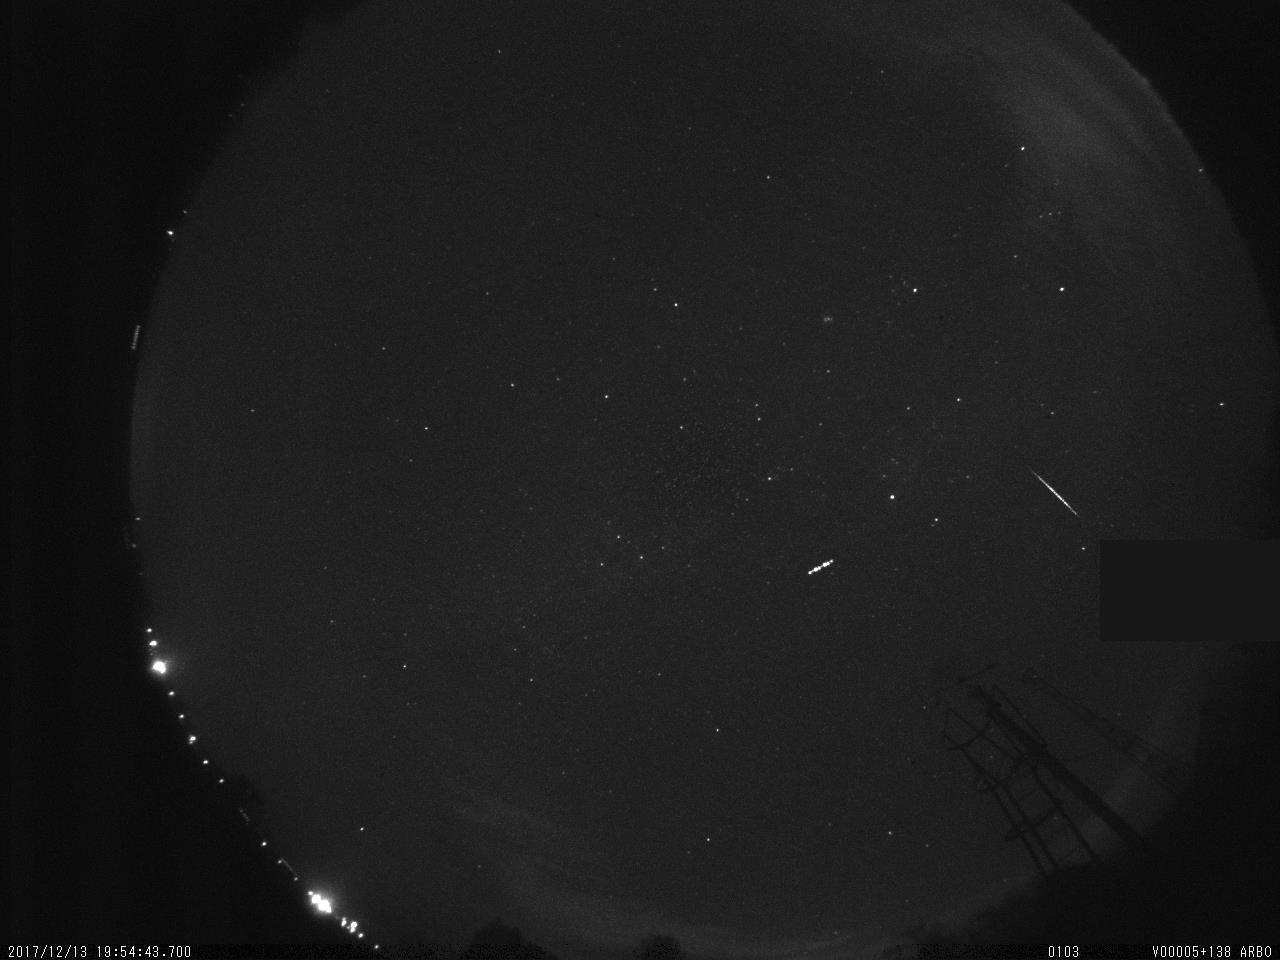meteor: (1019, 462, 1095, 524)
satelite: (803, 548, 840, 586)
